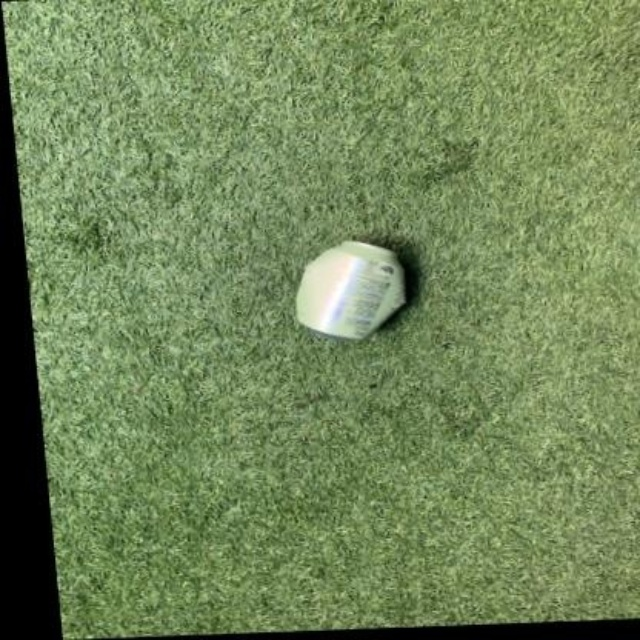trash: (297, 242, 405, 337)
